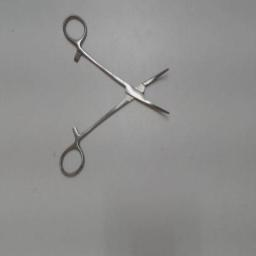Crile Artery Forceps: (54, 10, 178, 182)
